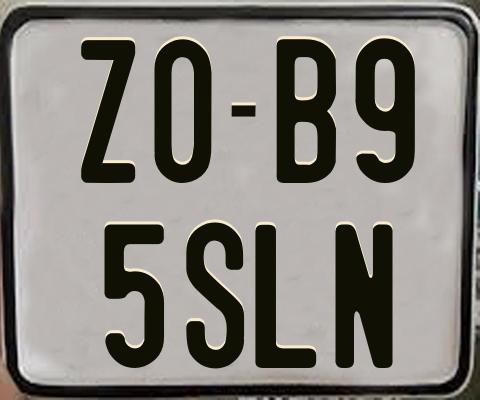0: (152, 37, 212, 184)
5: (101, 221, 167, 367)
9: (354, 37, 417, 187)
B: (276, 37, 338, 186)
L: (253, 222, 317, 365)
N: (333, 222, 393, 368)
S: (185, 221, 246, 369)
Z: (78, 37, 135, 182)
